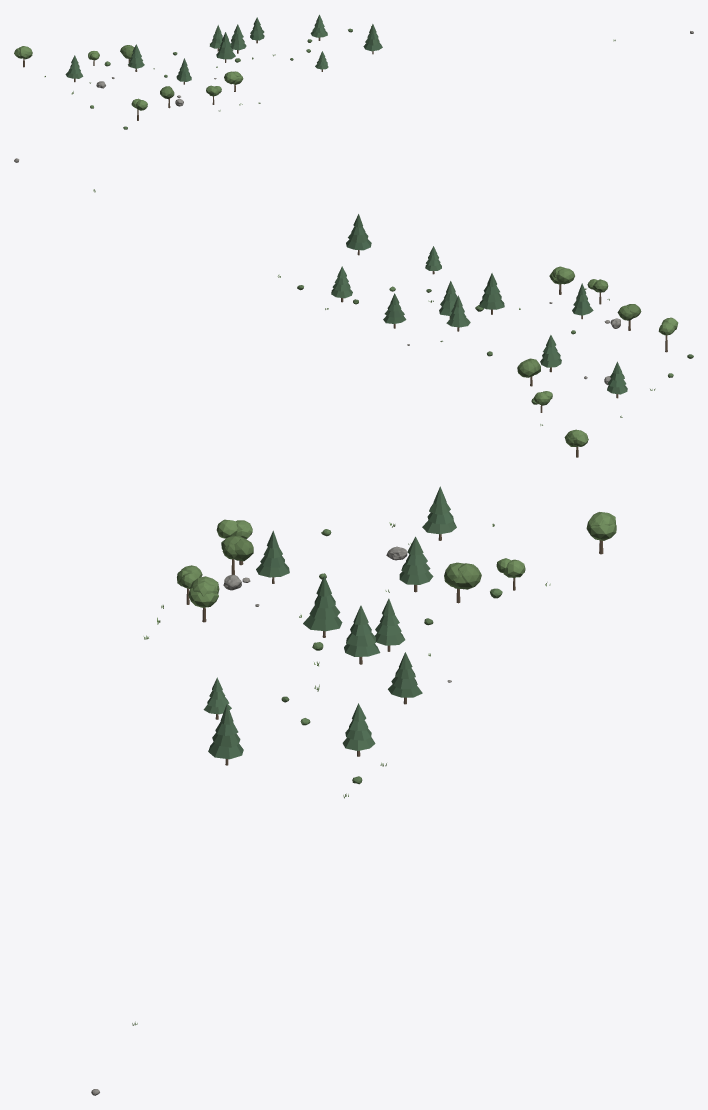
Rendered from arch_land_scatter_c17_21.glb.
3 views of the same model, one above another, from view 1: azimuth 30°, elevation 25°; view 2: azimuth 150°, elevation 25°; view 3: azimuth 270°, elevation 25° (orthographic). The views are drawn at different scales.
Parts seen in each view (by area): view 1: arch_land_scatter_c17_21; view 2: arch_land_scatter_c17_21; view 3: arch_land_scatter_c17_21.
Boxes of the visible parts, bbox=[...] form: arch_land_scatter_c17_21: bbox=[14, 14, 693, 129]; arch_land_scatter_c17_21: bbox=[14, 158, 693, 457]; arch_land_scatter_c17_21: bbox=[91, 486, 616, 1095].
Size of the model in its own units: 232 by 24.32 by 95.81.
